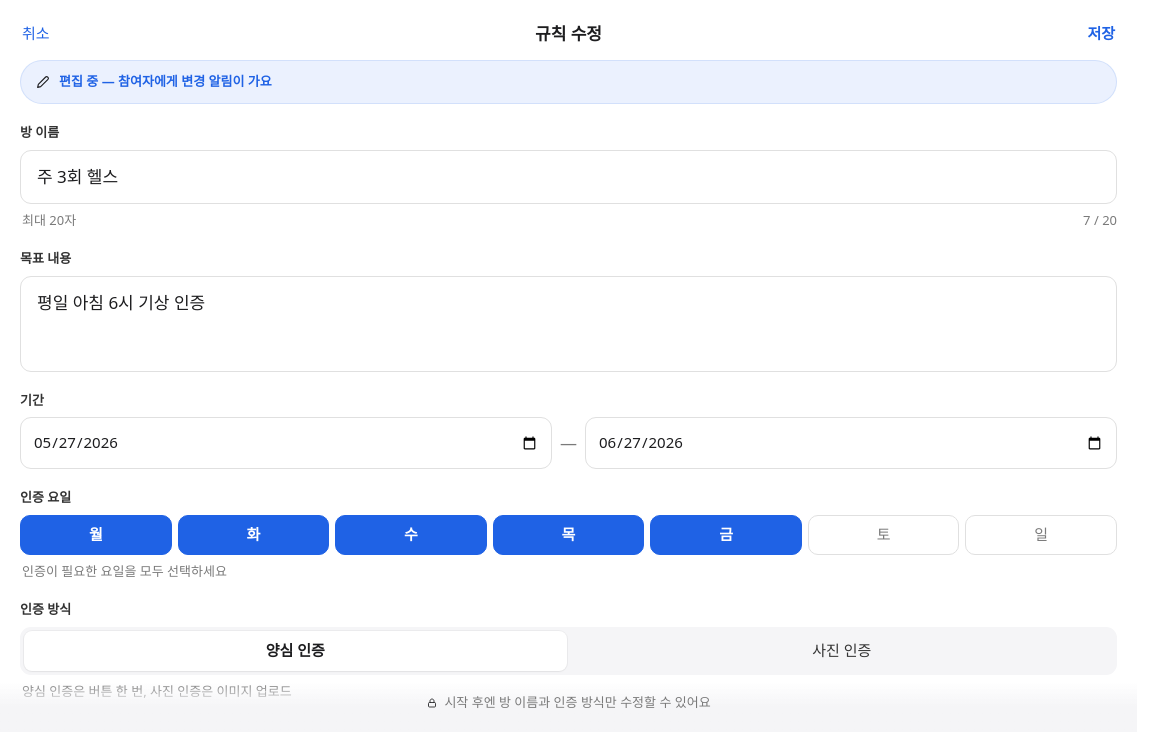
Test: EditRoomForm › 종료일을 시작일보다 앞으로 바꾸면 안내를 보여주고 저장을 막는다
Type "2026-05-01" into the date field named "종료일" at (851, 443), box left=585, top=418, right=1117, bottom=469
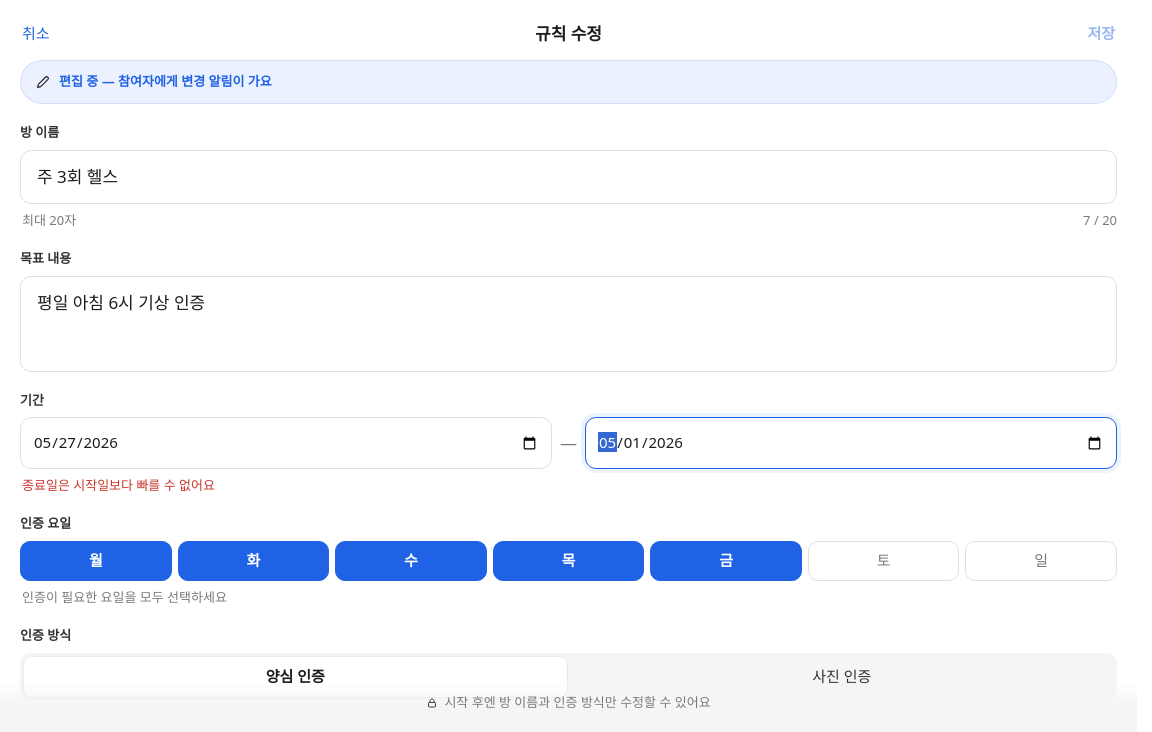
Now the button "저장" is disabled, box left=1073, top=15, right=1129, bottom=53
Now the text "종료일은 시작일보다 빠를 수 없어요" is shown, box left=22, top=476, right=215, bottom=494
